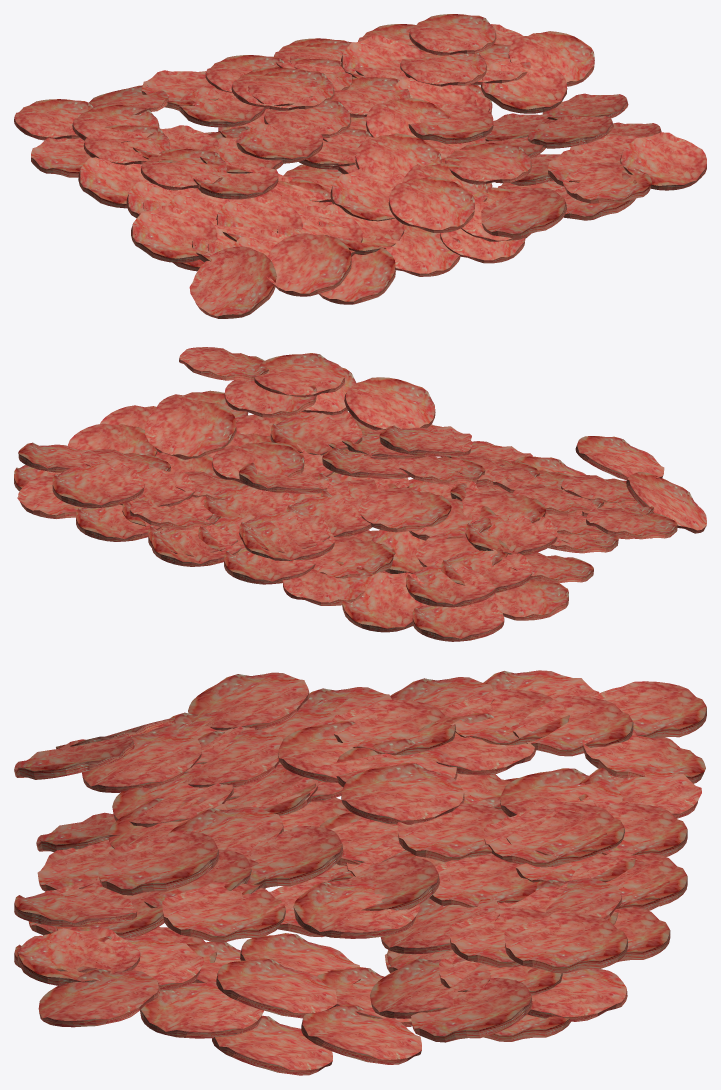
Rendered from salami_1_hoopje.glb.
3 views of the same model, one above another, from view 1: azimuth 30°, elevation 25°; view 2: azimuth 150°, elevation 25°; view 3: azimuth 270°, elevation 25° (orthographic). The views are drawn at different scales.
Visible parts, largest first — view 1: Cylinder.239, Cylinder.229, Cylinder.099, Cylinder.214, Cylinder.122, Cylinder.219, Cylinder.131, Cylinder.136, Cylinder.146, Cylinder.063, Cylinder.217, Cylinder.050 (+56 smaller); view 2: Cylinder.170, Cylinder.219, Cylinder.199, Cylinder.146, Cylinder.050, Cylinder.217, Cylinder.004, Cylinder.023, Cylinder.063, Cylinder.022, Cylinder.239, Cylinder.180 (+54 smaller); view 3: Cylinder.146, Cylinder.050, Cylinder.063, Cylinder.099, Cylinder.214, Cylinder.122, Cylinder.180, Cylinder.217, Cylinder.183, Cylinder.170, Cylinder.136, Cylinder.166 (+60 smaller).
Boxes of the visible parts, bbox=[...] form: Cylinder.239: bbox=[189, 246, 276, 318]; Cylinder.229: bbox=[266, 233, 351, 296]; Cylinder.099: bbox=[388, 176, 474, 232]; Cylinder.214: bbox=[620, 132, 706, 190]; Cylinder.122: bbox=[131, 205, 217, 262]; Cylinder.219: bbox=[481, 188, 566, 238]; Cylinder.131: bbox=[480, 56, 567, 113]; Cylinder.136: bbox=[508, 31, 594, 86]; Cylinder.146: bbox=[409, 14, 496, 55]; Cylinder.063: bbox=[445, 143, 531, 184]; Cylinder.217: bbox=[562, 162, 651, 204]; Cylinder.050: bbox=[236, 120, 322, 163]; Cylinder.170: bbox=[144, 400, 236, 459]; Cylinder.219: bbox=[344, 377, 435, 430]; Cylinder.199: bbox=[342, 572, 428, 632]; Cylinder.146: bbox=[52, 463, 144, 508]; Cylinder.050: bbox=[358, 487, 451, 532]; Cylinder.217: bbox=[254, 353, 344, 397]; Cylinder.004: bbox=[412, 601, 504, 641]; Cylinder.023: bbox=[465, 512, 557, 555]; Cylinder.063: bbox=[270, 413, 362, 455]; Cylinder.022: bbox=[406, 563, 496, 607]; Cylinder.239: bbox=[626, 472, 706, 533]; Cylinder.180: bbox=[212, 441, 304, 484]; Cylinder.146: bbox=[504, 913, 627, 973]; Cylinder.050: bbox=[341, 763, 464, 824]; Cylinder.063: bbox=[162, 882, 285, 942]; Cylinder.099: bbox=[98, 831, 219, 895]; Cylinder.214: bbox=[38, 969, 160, 1027]; Cylinder.122: bbox=[188, 672, 309, 730]; Cylinder.180: bbox=[293, 881, 419, 938]; Cylinder.217: bbox=[17, 928, 140, 985]; Cylinder.183: bbox=[140, 981, 263, 1038]; Cylinder.170: bbox=[216, 958, 336, 1018]; Cylinder.136: bbox=[411, 978, 532, 1042]; Cylinder.166: bbox=[301, 1004, 421, 1064].
Bounding box in the file's own units: 1.28 × 0.164 × 1.02.
108 materials, 108 textured.
